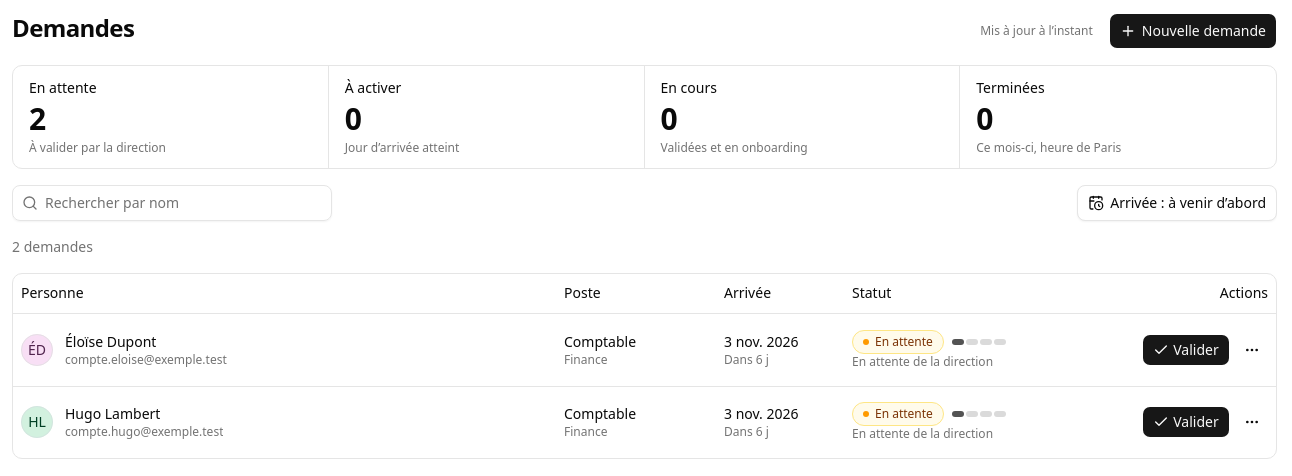
Test: après Valider : la ligne ne disparaît ni ne revient en arrière tant que l’API est en retard › une ligne qui revient plus avancée que prévu (activée entre-temps) est celle de l’API
Expected: the link "Hugo Lambert" is shown, [65,404,160,424]
What coordinates should you click on to do the following:
click the button with aria-label "Valider la demande de Éloïse Dupont"
I would click on:
 (1186, 350)
Its box is [1142,334,1230,366].
Wait 5500 ms
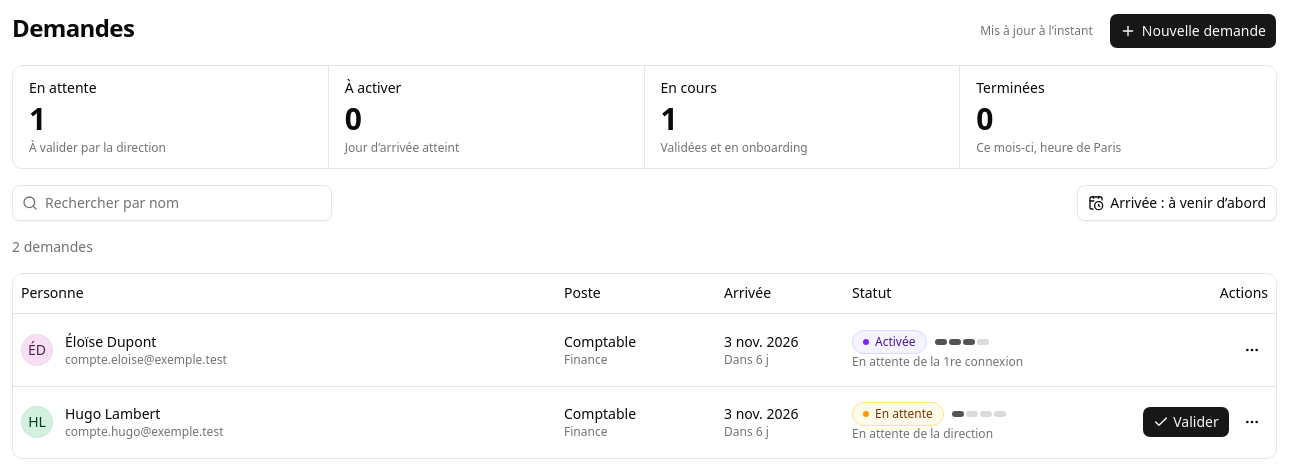
Expected: the text "Activée" is shown, [852,330,926,354]
